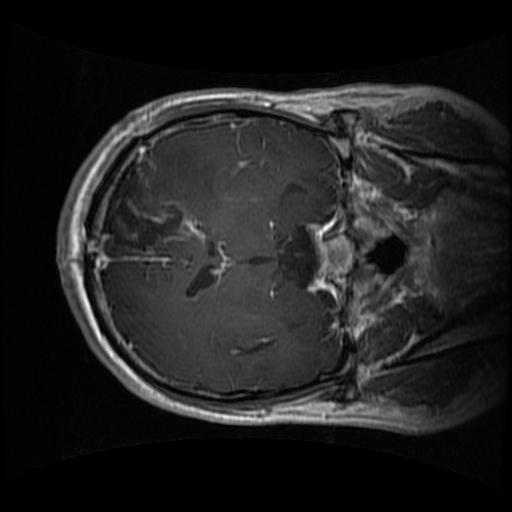glioma: (103, 158, 202, 257)
